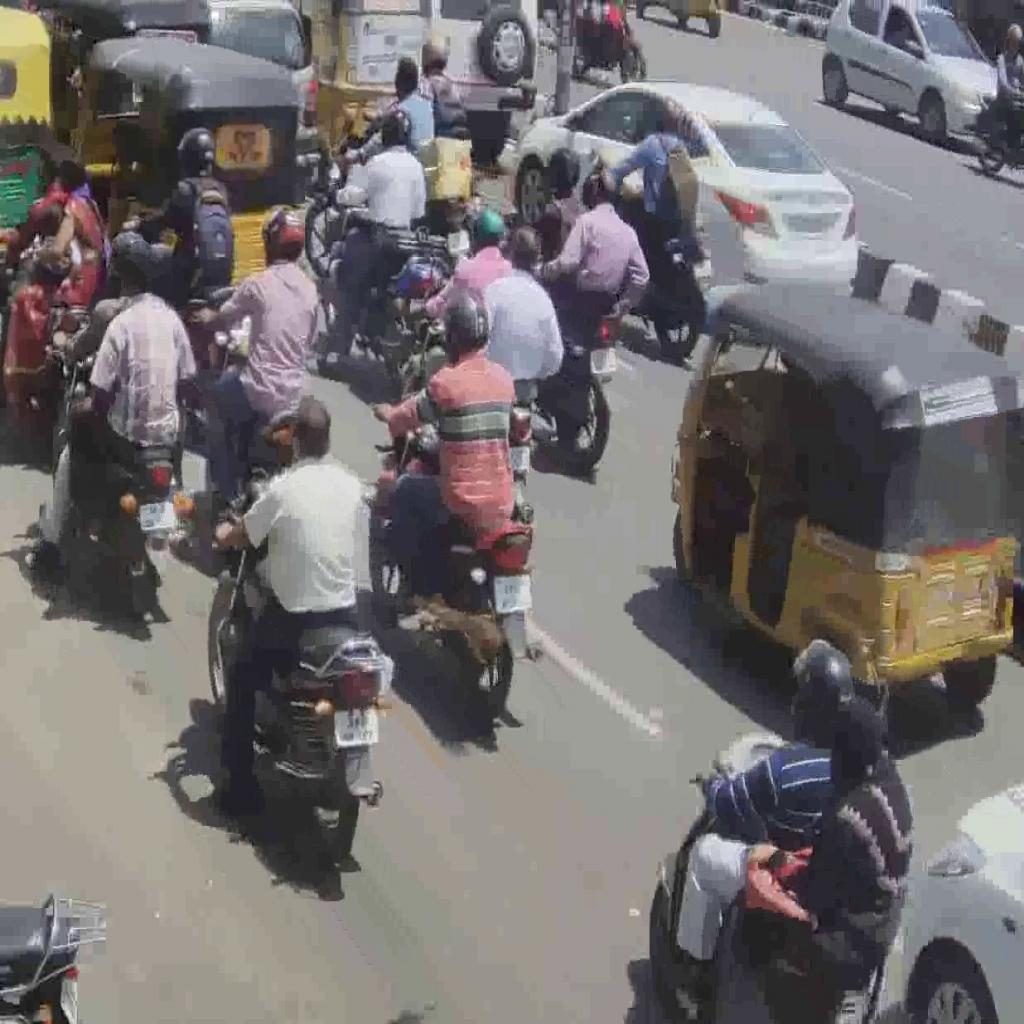helmet: (652, 731, 903, 1024), (206, 494, 390, 880), (376, 410, 550, 716), (54, 343, 194, 614)
